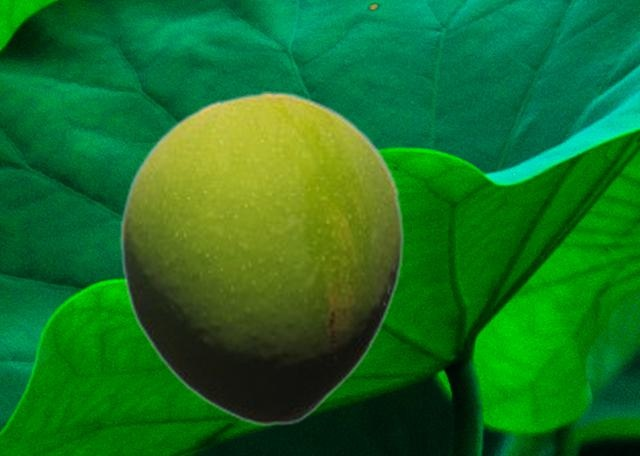green_mango: (119, 91, 404, 426)
